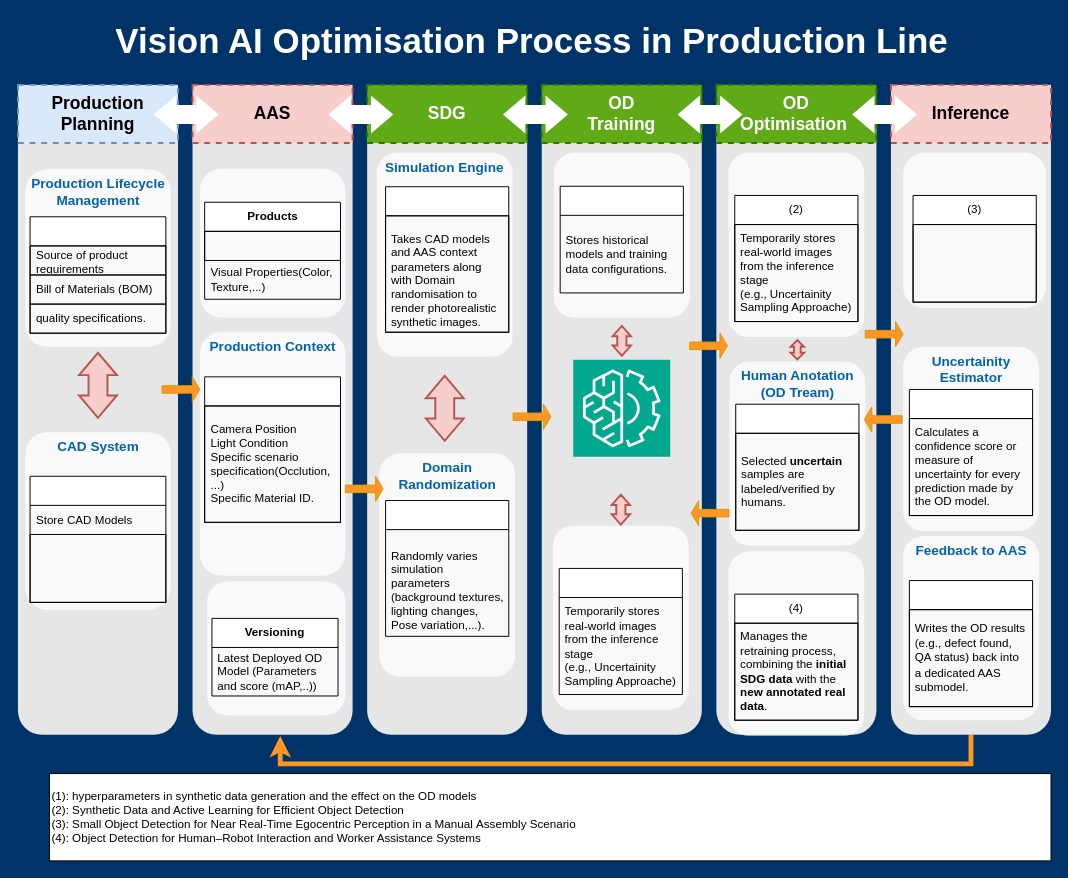
This 1068x878 diagram has some shape labels left out. Each missing label, with the box of its shape:
Active Learning: (728, 152, 864, 337)
CAD Model References: (204, 230, 340, 260)
Color, Texture, Material,...: (29, 534, 166, 602)
Continual Learning: (728, 551, 864, 735)
Data Buffer (Real Samples): (552, 525, 688, 710)
Deployment Engine: (903, 152, 1046, 307)
Hyperparameters(1): (385, 500, 509, 636)
model Repository: (553, 152, 689, 317)
Model Status: (207, 581, 345, 715)
OD Training Process (3): (572, 359, 670, 457)
Parameters of Production Line.: (204, 376, 340, 522)
Runs the optimized OD model on the edge or server.: (912, 224, 1036, 302)
SmartSDG(1): (385, 186, 509, 332)
Target Object(s): (199, 168, 345, 317)
